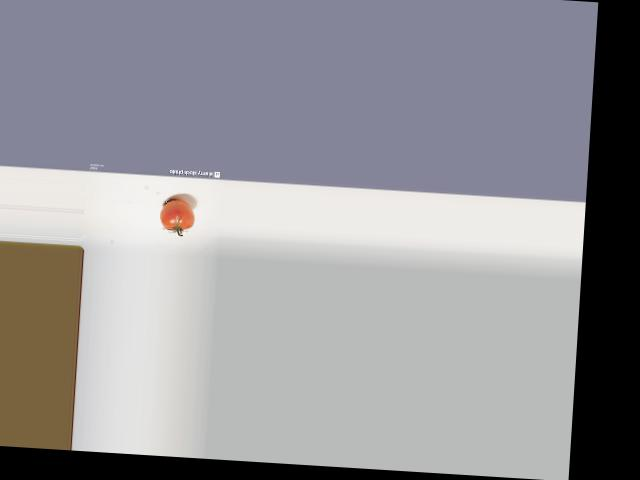tomato: (158, 198, 195, 231)
